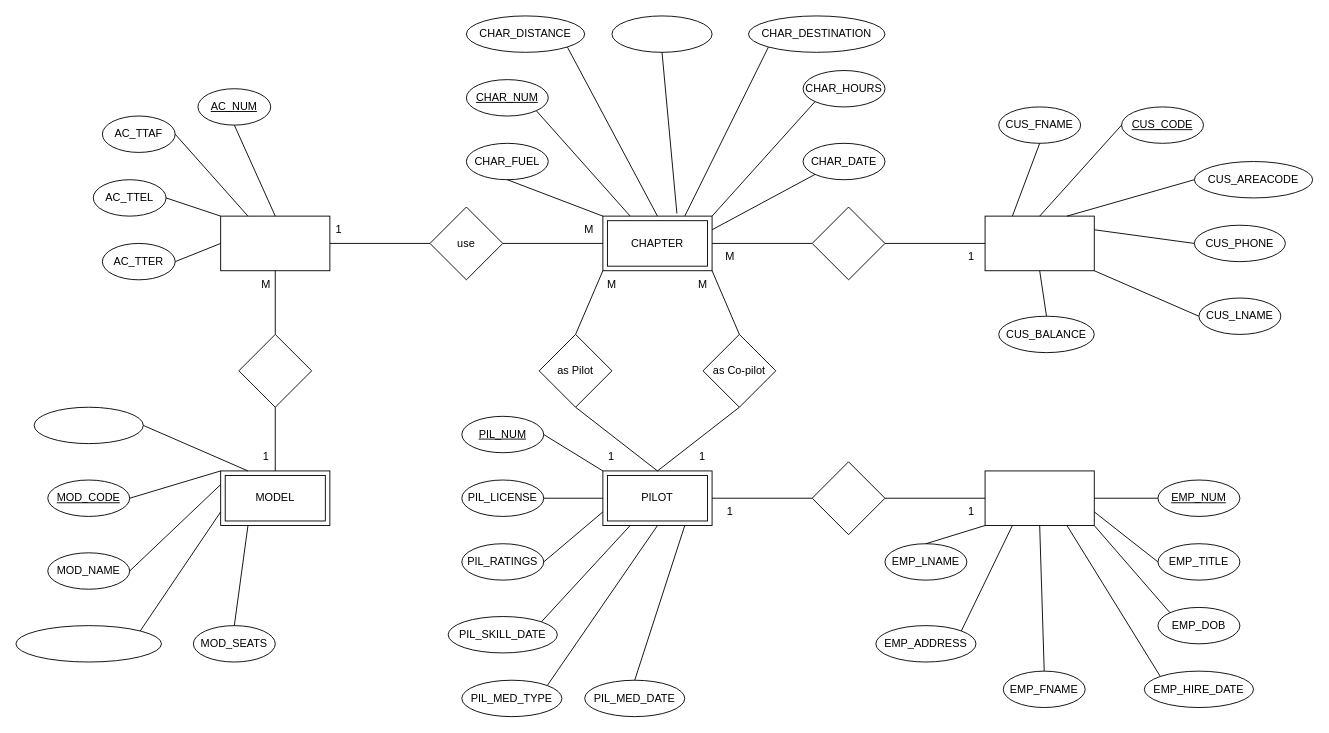
Some shapes in this 1329 by 733 pixel diagram are drawn without their labels. Each missing label, with the box of its shape:
AIRCRAFT: (220, 215, 330, 271)
as: (811, 461, 885, 535)
CHAR_DISTANT: (611, 15, 712, 52)
CUSTOMER: (984, 215, 1094, 271)
EMPLOYEE: (984, 470, 1094, 526)
has: (238, 334, 312, 407)
MOD_CHG_MILE: (33, 406, 143, 444)
MOD_MANUFACTURER: (15, 625, 162, 662)
rent: (811, 206, 885, 280)
